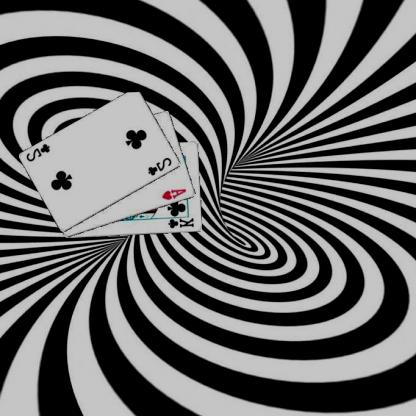2C: (148, 155, 175, 177), (26, 141, 53, 163)
AH: (161, 186, 189, 201)
KC: (165, 213, 196, 229)
